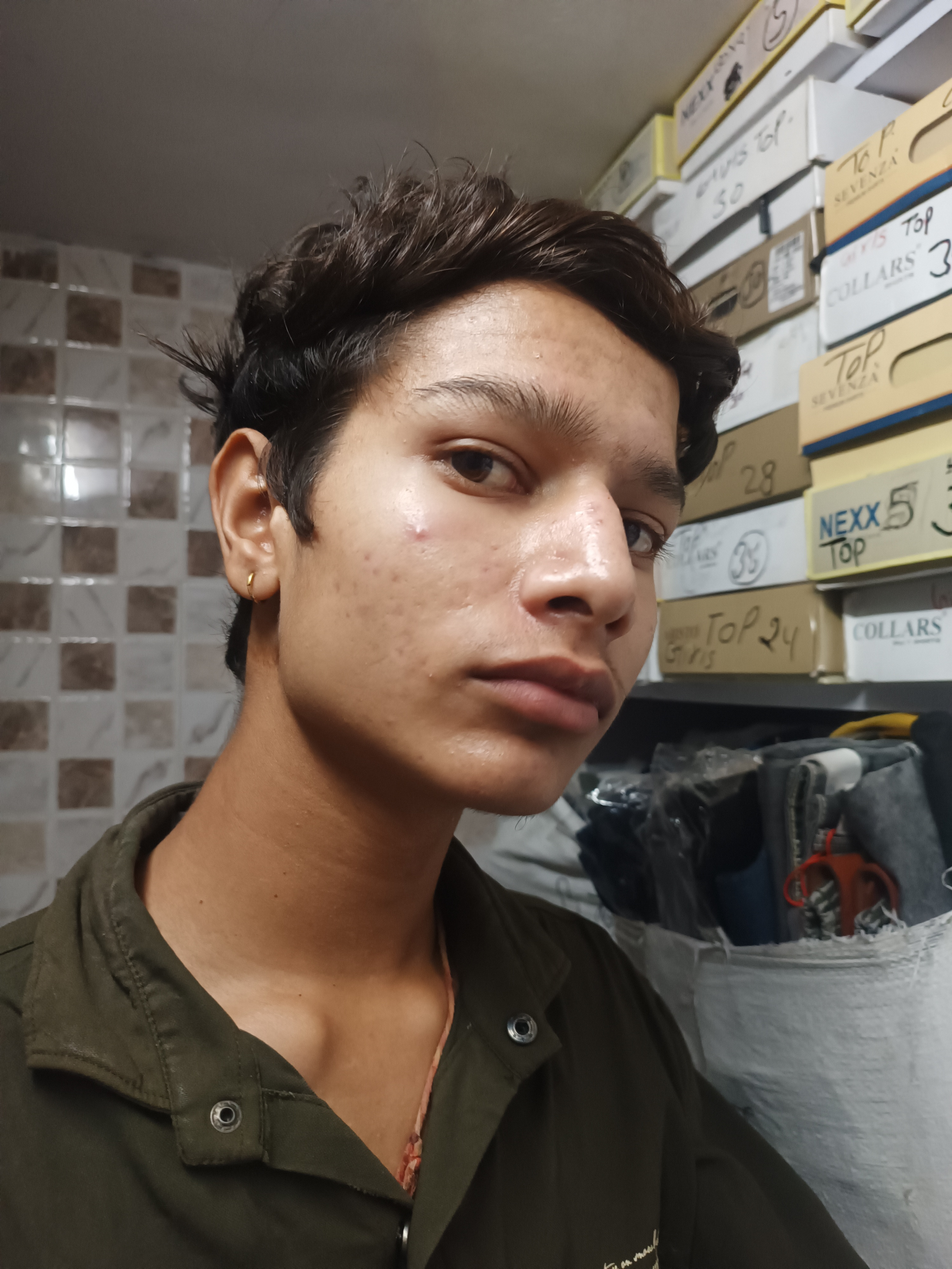closed_comedone: (421, 668, 440, 683), (456, 731, 466, 745), (447, 747, 458, 759)
papule: (409, 520, 427, 540), (534, 348, 543, 361)
